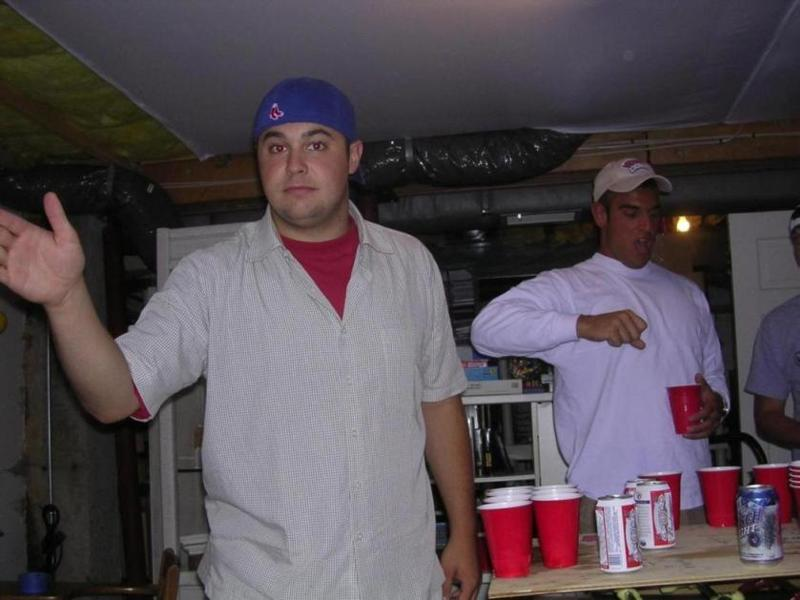person: (1, 80, 480, 600)
